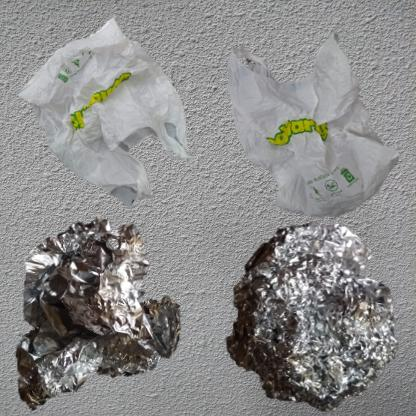aluminio: (213, 213, 407, 416), (10, 213, 185, 412)
bolsa: (213, 10, 416, 256), (10, 10, 202, 213)
